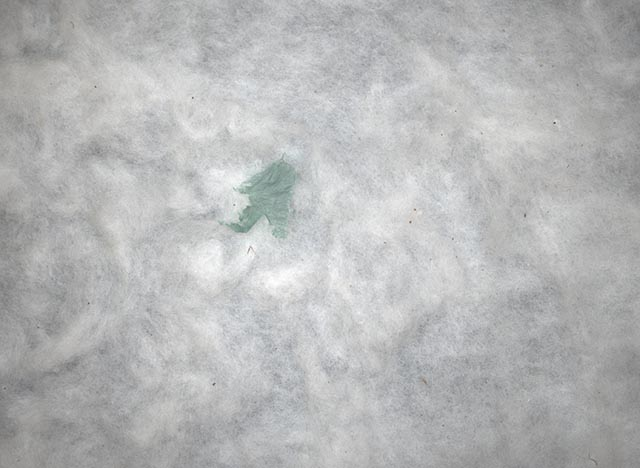plastic film: (222, 154, 302, 243)
